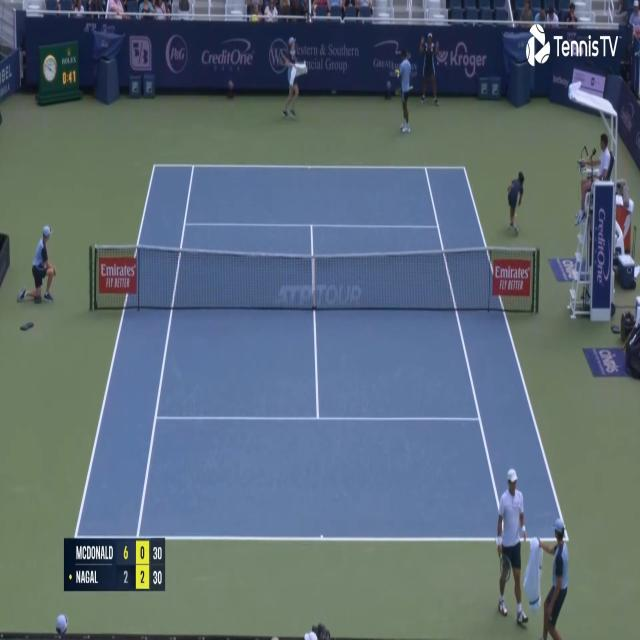tennis-player: (494, 466, 529, 629), (393, 46, 416, 135)
